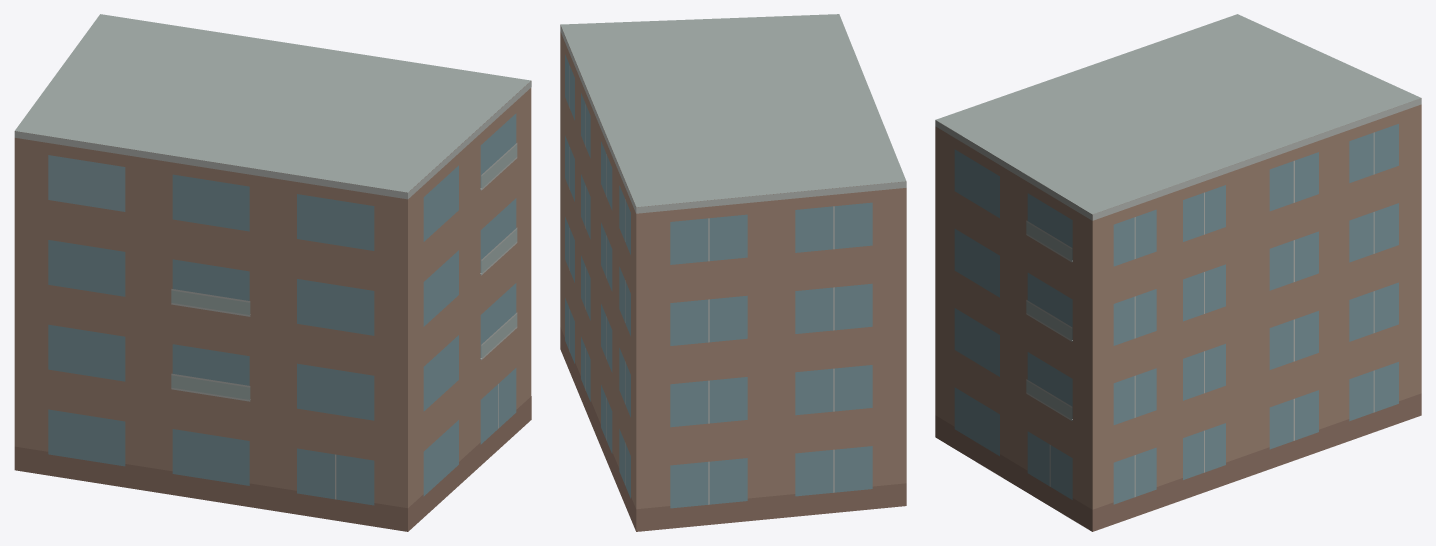
File: residential-29369a7e-0924-4fe4-9816-ad3c0fc719a3.glb
3 views of the same model, side by side, from view 1: azimuth 30°, elevation 25°; view 2: azimuth 150°, elevation 25°; view 3: azimuth 270°, elevation 25° (orthographic). The views are drawn at different scales.
Parts seen in each view (by area): view 1: residential-29369a7e-0924-4fe4-9816-ad3c0fc719a3.tmp; view 2: residential-29369a7e-0924-4fe4-9816-ad3c0fc719a3.tmp; view 3: residential-29369a7e-0924-4fe4-9816-ad3c0fc719a3.tmp.
Boxes of the visible parts, x1=… form: residential-29369a7e-0924-4fe4-9816-ad3c0fc719a3.tmp: x1=14, y1=14, x2=531, y2=531; residential-29369a7e-0924-4fe4-9816-ad3c0fc719a3.tmp: x1=560, y1=14, x2=906, y2=531; residential-29369a7e-0924-4fe4-9816-ad3c0fc719a3.tmp: x1=935, y1=14, x2=1421, y2=531.
Bounding box in the file's own units: 16.54 × 12.2 × 16.95.
